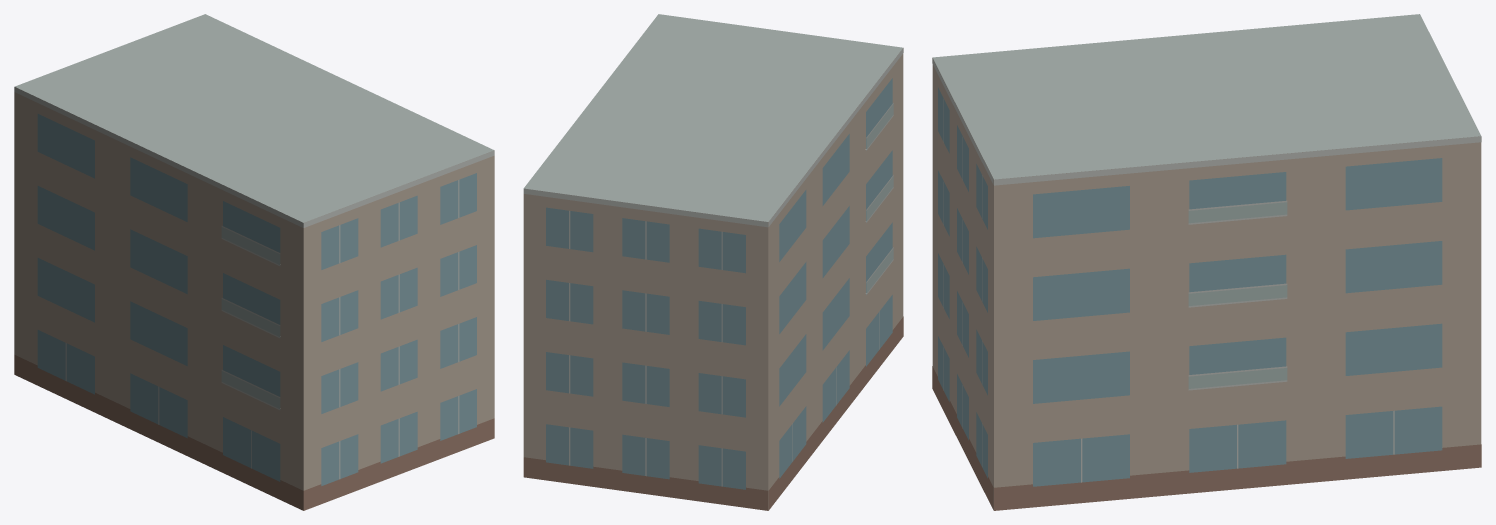
The model's file is survey-upis-32713640.glb.
The picture shows the model from 3 angles, left to right: view 1: azimuth 30°, elevation 25°; view 2: azimuth 150°, elevation 25°; view 3: azimuth 270°, elevation 25°; orthographic projection. The views are drawn at different scales.
Parts seen in each view (by area): view 1: survey-upis-32713640.tmp; view 2: survey-upis-32713640.tmp; view 3: survey-upis-32713640.tmp.
Part boxes in pixels (left/top/right/bottom): survey-upis-32713640.tmp: left=14, top=14, right=494, bottom=510; survey-upis-32713640.tmp: left=523, top=14, right=903, bottom=510; survey-upis-32713640.tmp: left=932, top=14, right=1481, bottom=510.
Size of the model in its own units: 14.26 by 13.3 by 19.98.
